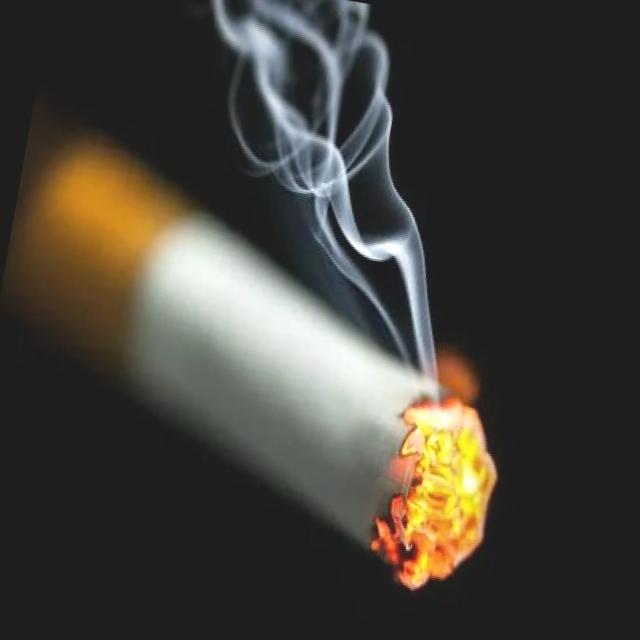smoke: (0, 107, 553, 610)
